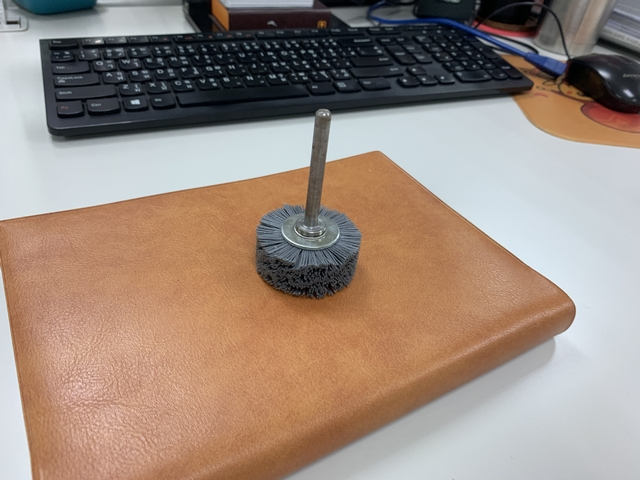Wheel Brush: (254, 100, 365, 294), (242, 142, 372, 301)
